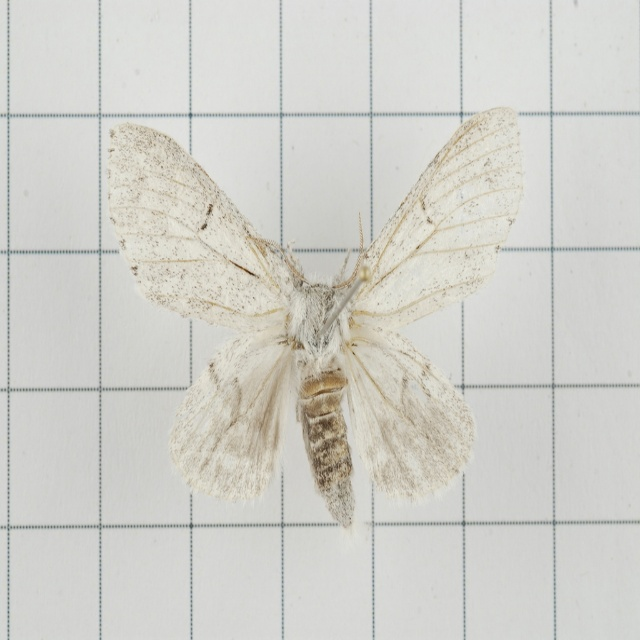Butterfly: (107, 105, 524, 533)
